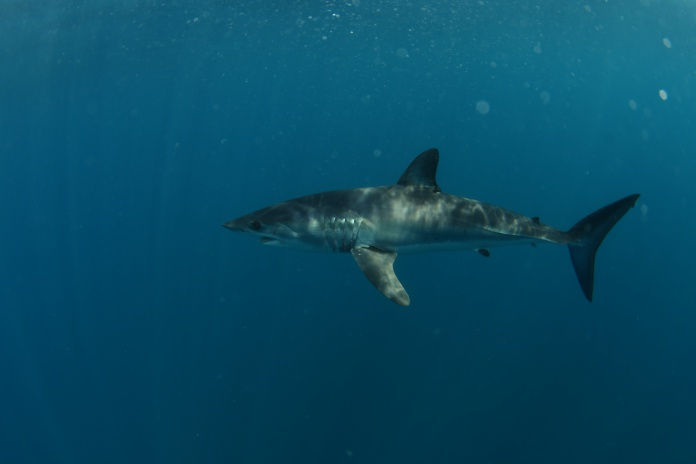Mako: (211, 147, 644, 316)
